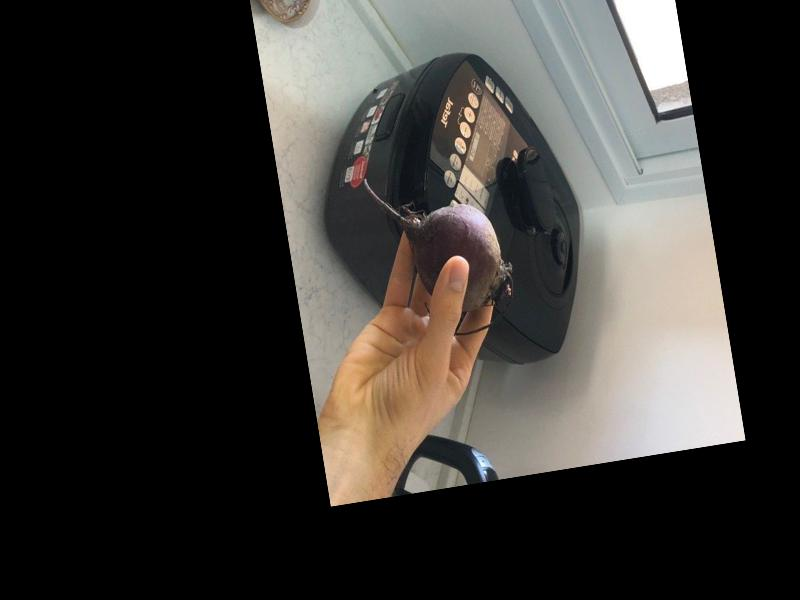Beet: (361, 158, 521, 345)
